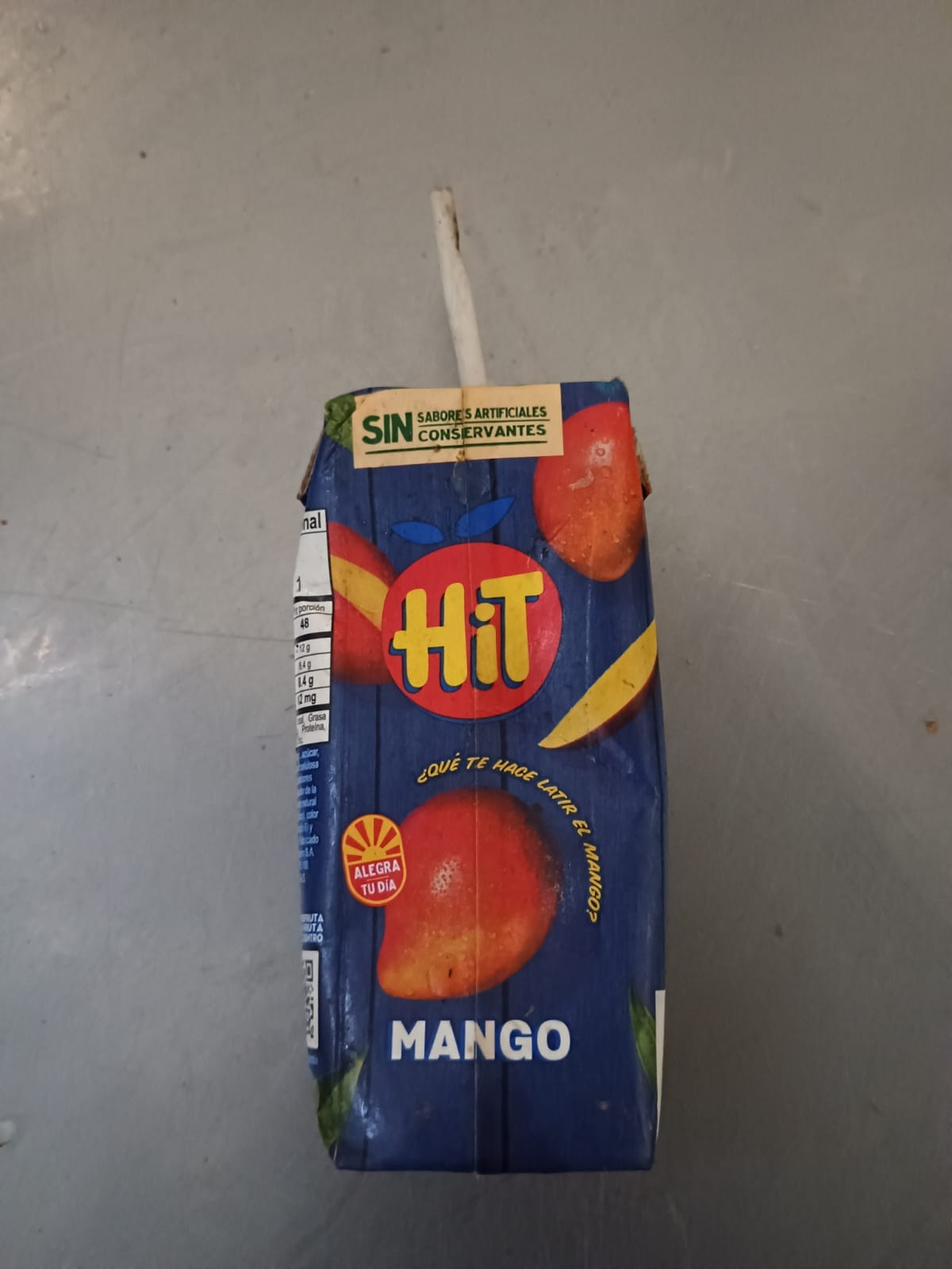Carton: (287, 382, 667, 1168)
